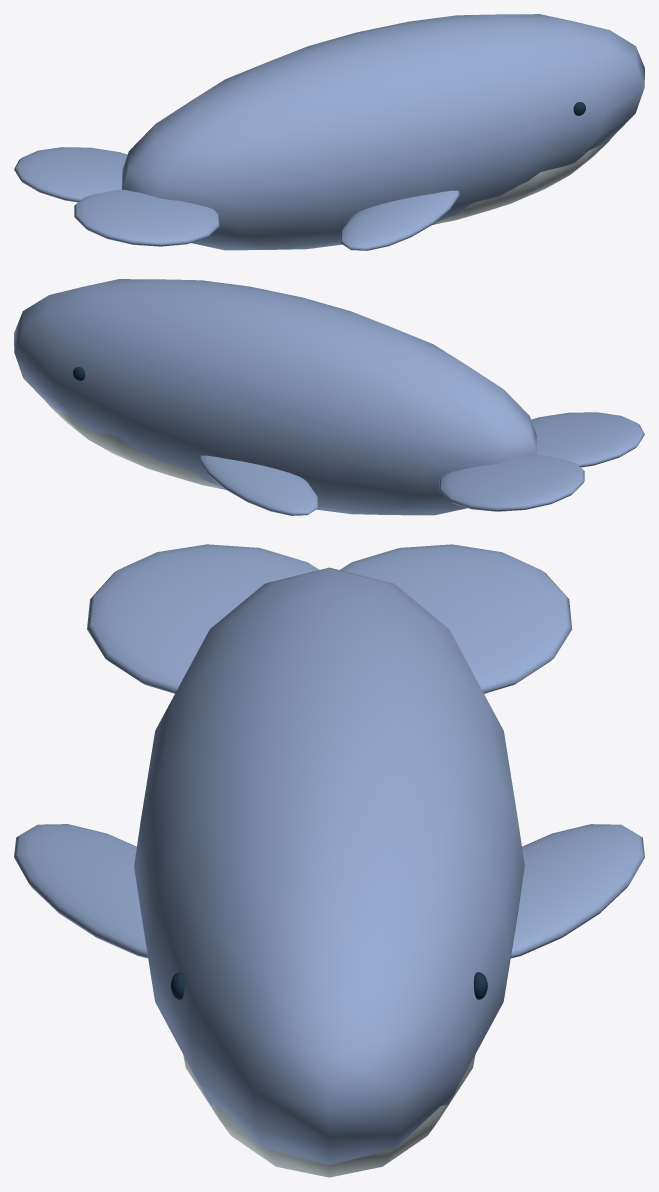
The model's file is whale.gltf.
3 renders of one model, top to bottom at view 1: azimuth 30°, elevation 25°; view 2: azimuth 150°, elevation 25°; view 3: azimuth 270°, elevation 25°, orthographic. The views are drawn at different scales.
Visible parts, largest first — view 1: Group (×2); view 2: Group (×2); view 3: Group (×2).
Part boxes in pixels (x1=…): Group (×2): x1=14, y1=14, x2=644, y2=250; Group (×2): x1=14, y1=279, x2=644, y2=515; Group (×2): x1=14, y1=544, x2=644, y2=1177.
Bounding box in the file's own units: 11.27 × 3.4 × 5.49.
